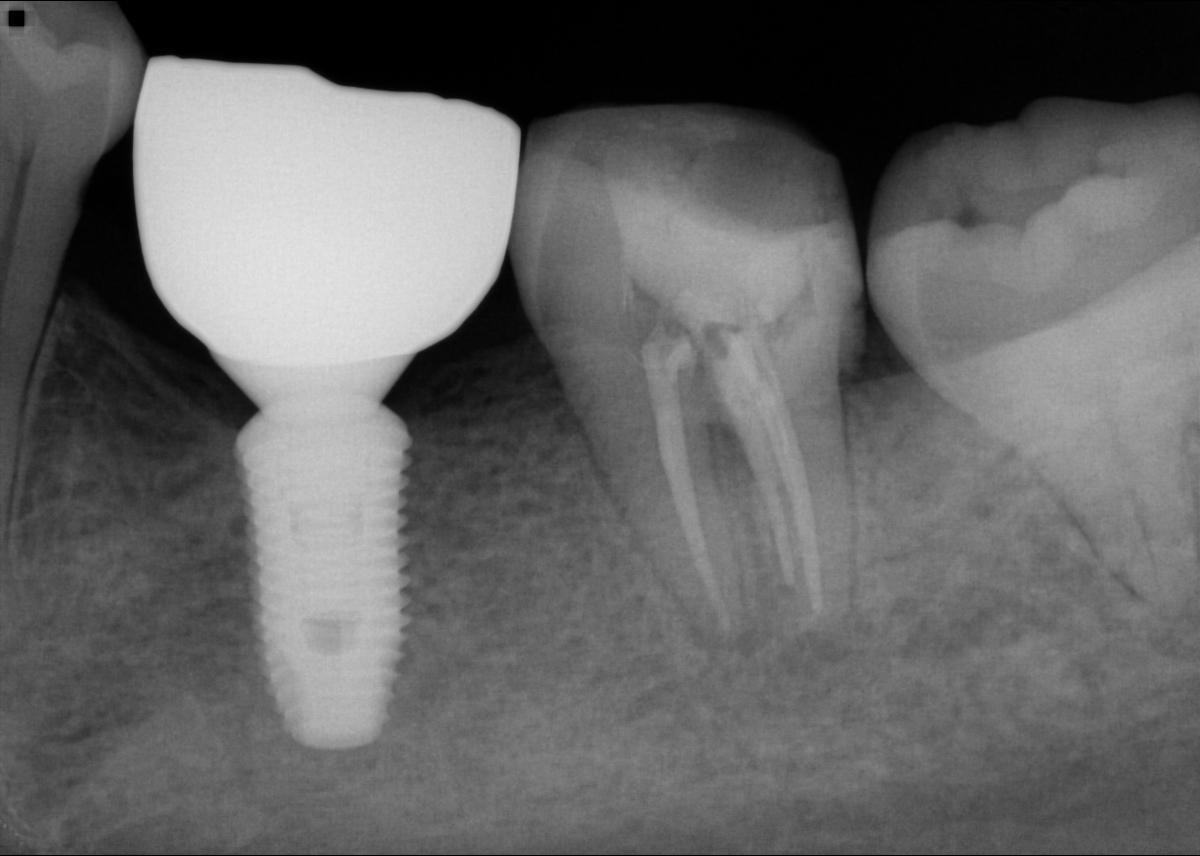Endo-Periodontal Lesion: (705, 422, 753, 487)
